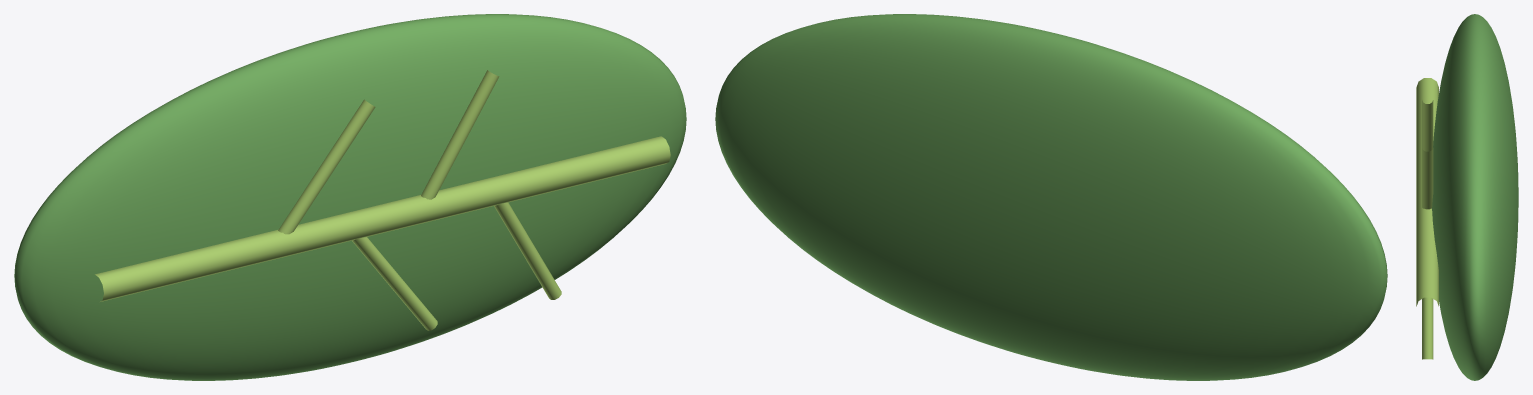
File: bio-p1-leaf.glb
3 renders of one model, left to right at view 1: azimuth 30°, elevation 25°; view 2: azimuth 150°, elevation 25°; view 3: azimuth 270°, elevation 25°, orthographic. The views are drawn at different scales.
Parts seen in each view (by area): view 1: broad-leaf-blade, central-leaf-vein, branching-vein-0, branching-vein-2, branching-vein-1, branching-vein-3; view 2: broad-leaf-blade; view 3: broad-leaf-blade, central-leaf-vein, branching-vein-3, branching-vein-2, branching-vein-0.
Part boxes in pixels (left/top/right/bottom): broad-leaf-blade: left=14, top=14, right=686, bottom=380; central-leaf-vein: left=95, top=136, right=670, bottom=301; branching-vein-0: left=278, top=99, right=375, bottom=234; branching-vein-2: left=421, top=70, right=499, bottom=199; branching-vein-1: left=352, top=237, right=437, bottom=330; branching-vein-3: left=494, top=202, right=561, bottom=299; broad-leaf-blade: left=715, top=14, right=1387, bottom=380; broad-leaf-blade: left=1432, top=14, right=1518, bottom=380; central-leaf-vein: left=1416, top=78, right=1438, bottom=306; branching-vein-3: left=1422, top=297, right=1433, bottom=359; branching-vein-2: left=1422, top=148, right=1433, bottom=209; branching-vein-0: left=1422, top=100, right=1433, bottom=151.
Size of what is drawn, in the model's own units: 1.3 by 0.6048 by 0.2164.
